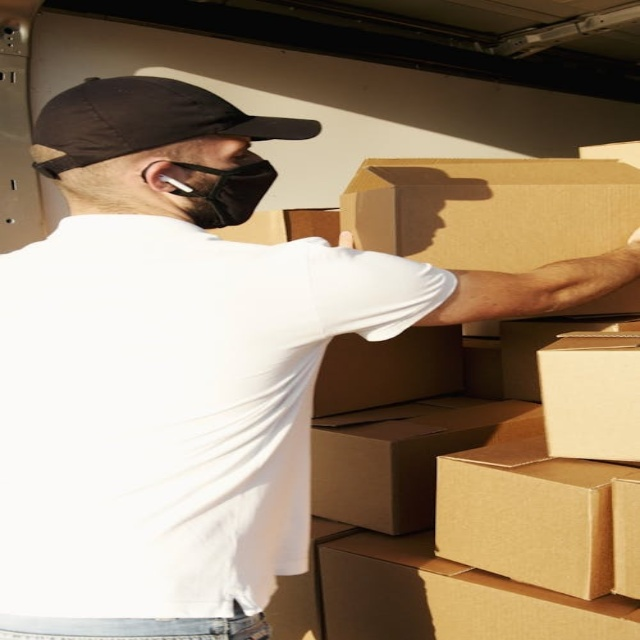Mascara: (152, 157, 278, 229)
Sin_gafas: (196, 140, 278, 164)
